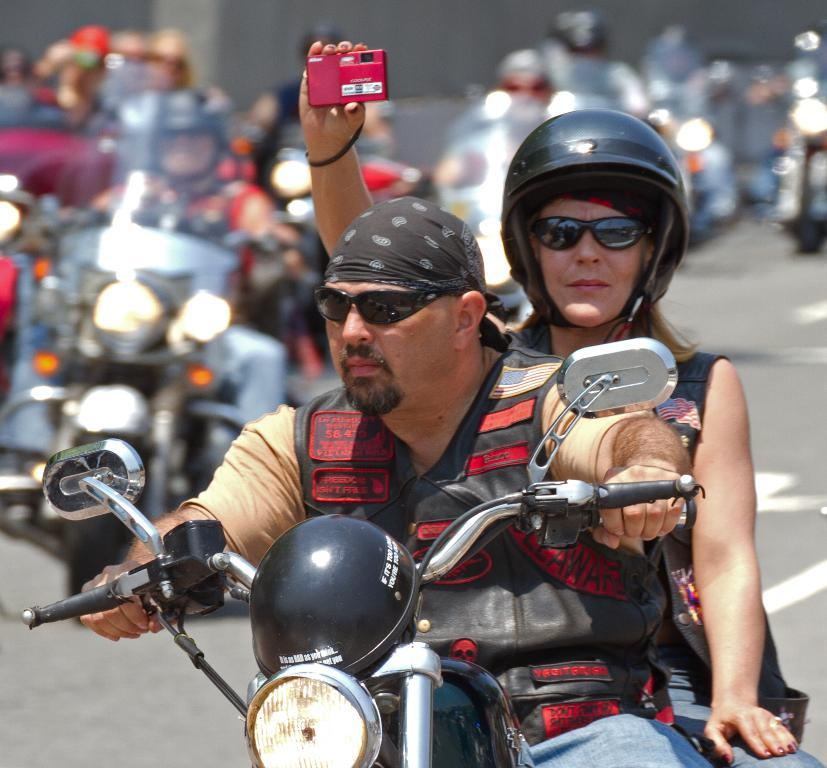helmet: (501, 108, 691, 325), (151, 90, 221, 176)
nohelmet: (314, 193, 490, 421)
